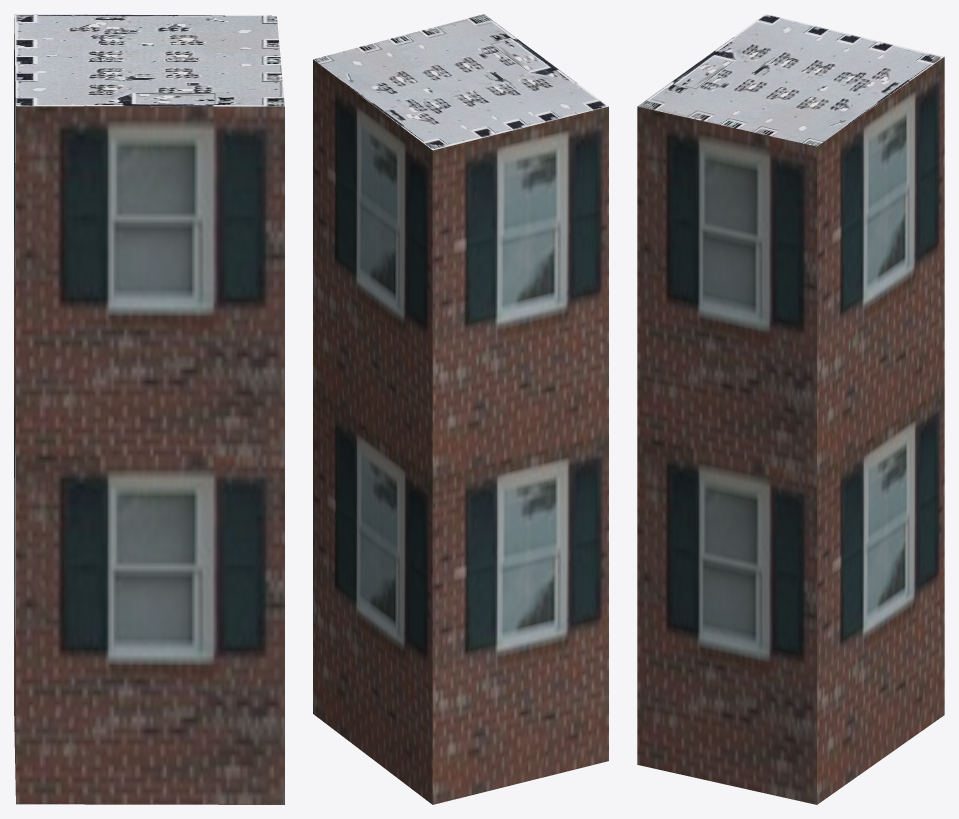
File: ResTex__4040.fbx
3 views of the same model, side by side, from view 1: azimuth 30°, elevation 25°; view 2: azimuth 150°, elevation 25°; view 3: azimuth 270°, elevation 25° (orthographic). The views are drawn at different scales.
Parts seen in each view (by area): view 1: CityEngineMaterial_14_m, CityEngineMaterial_m; view 2: CityEngineMaterial_14_m, CityEngineMaterial_m; view 3: CityEngineMaterial_14_m, CityEngineMaterial_m.
Boxes of the visible parts, x1,y1,x2,y2 form: CityEngineMaterial_14_m: (14,18,284,804); CityEngineMaterial_m: (14,14,284,106); CityEngineMaterial_14_m: (313,59,608,804); CityEngineMaterial_m: (313,14,608,150); CityEngineMaterial_14_m: (637,57,944,804); CityEngineMaterial_m: (638,14,943,146).
Size of the model in its own units: 2.59 by 6 by 2.54.
2 materials, 2 textured.
